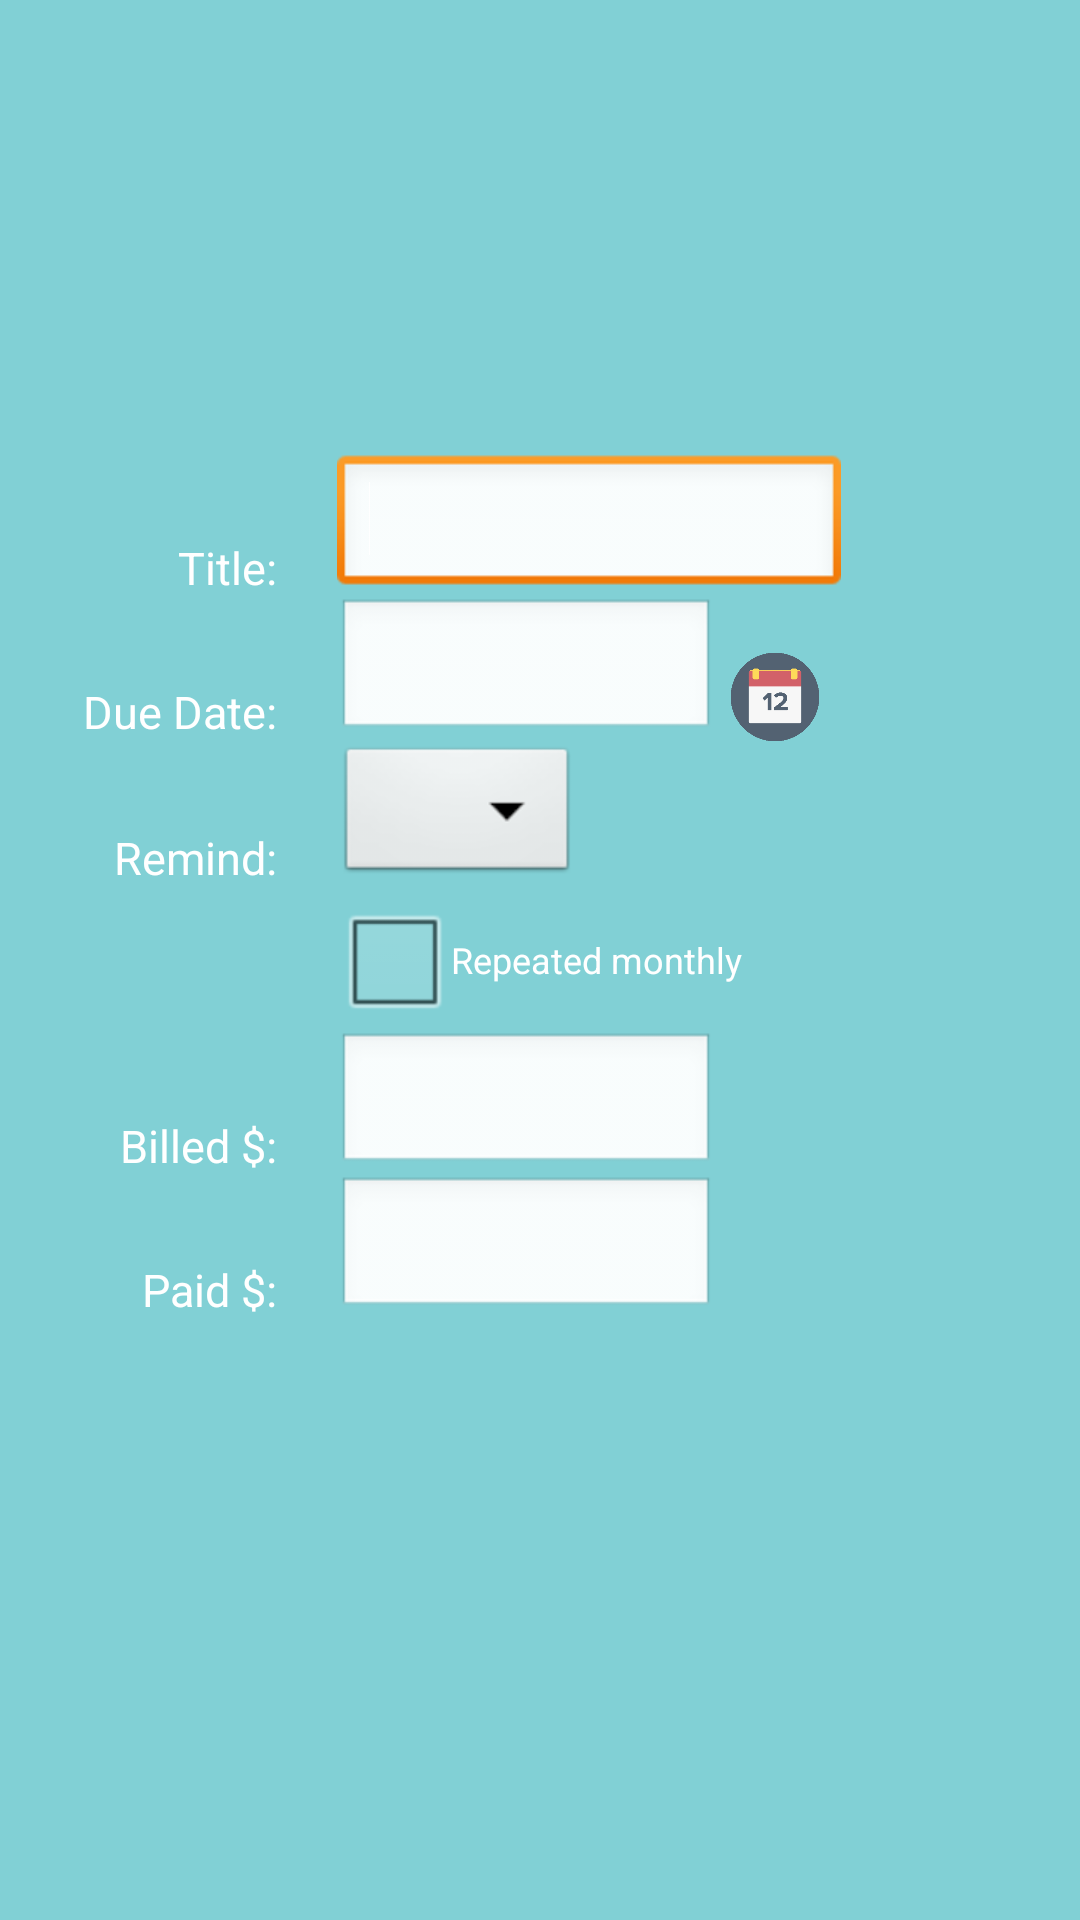

Named icons in this screenshot (1080 × 1920) and their bounding boxes, BBox(x1, y1, x2, y2):
calendar: BBox(731, 653, 819, 741)
